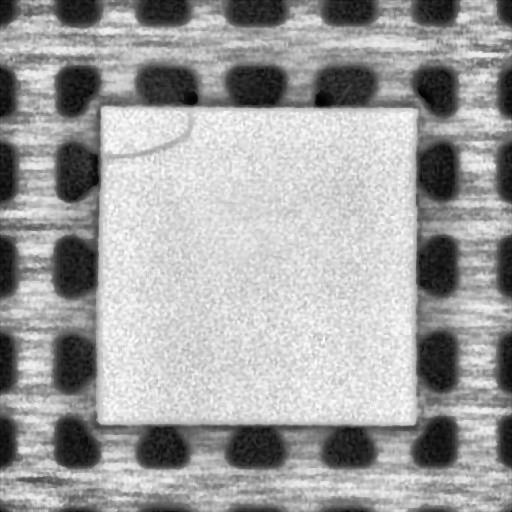DIE_CRACK: (106, 109, 192, 161)
